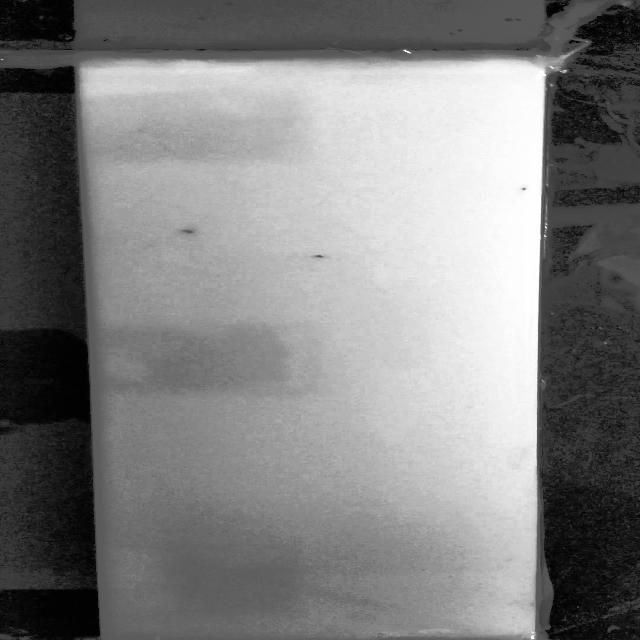shrimp: (298, 254, 326, 264), (177, 227, 206, 236), (521, 185, 529, 192)
